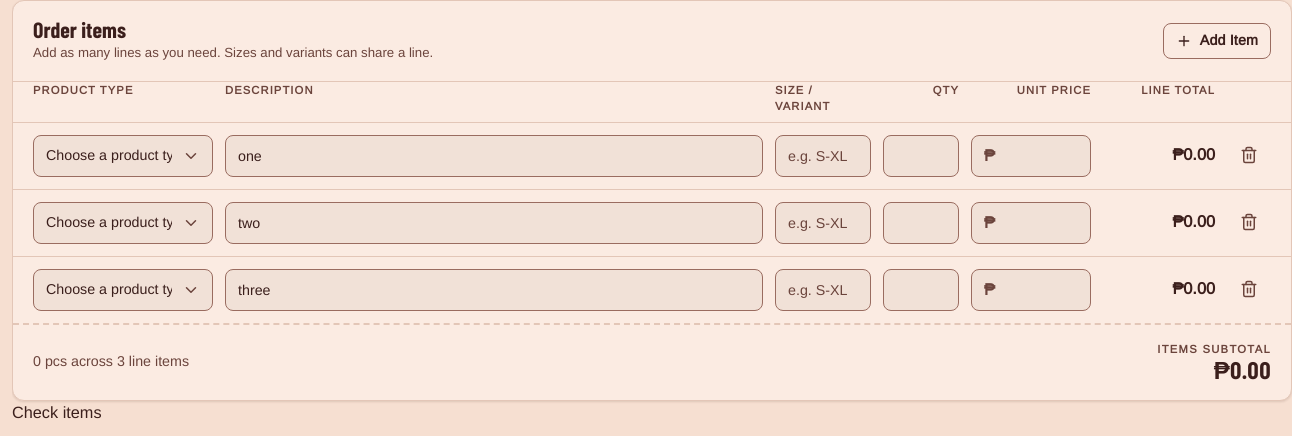
Test: Add Item and Remove (focus rules) › removes a row and focuses the next row Product type
Click the button named "Remove item 1" at (1249, 155), box [1227,133,1271,177]
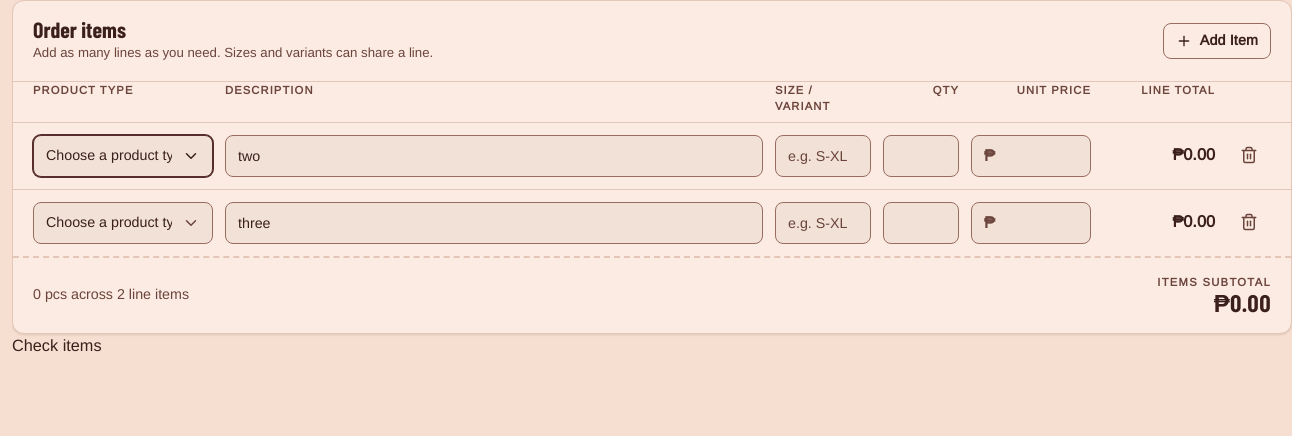
Check: the 1st field named "Description" holds "two", box [226,136,762,176]
Check: the number of elements "₱ ₱0.00" is 2, box [13,122,1291,189]; [13,189,1291,256]
